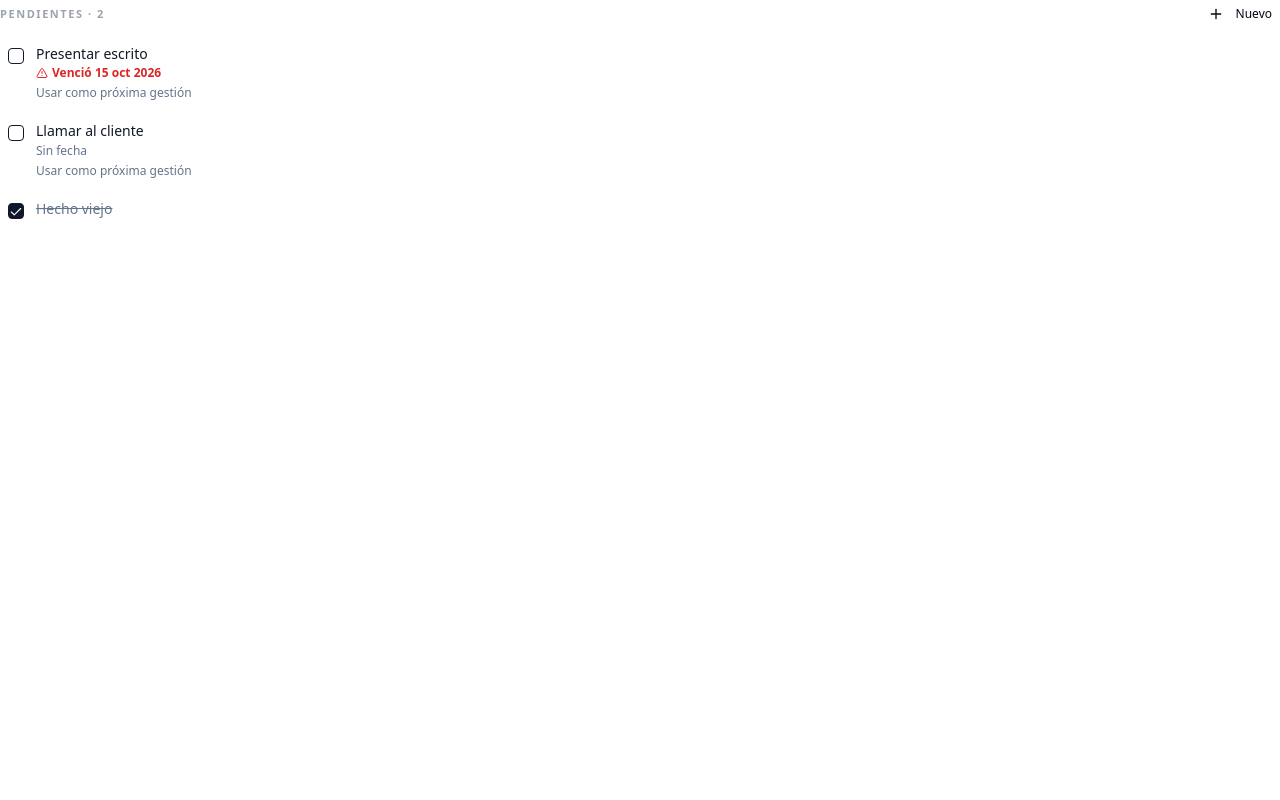
Test case: CTA por tarea › prefill título + fecha desde la tarea
Click the button "Usar como próxima gestión" below "Venció 15 oct 2026": (114, 93) left=36, top=85, right=192, bottom=101
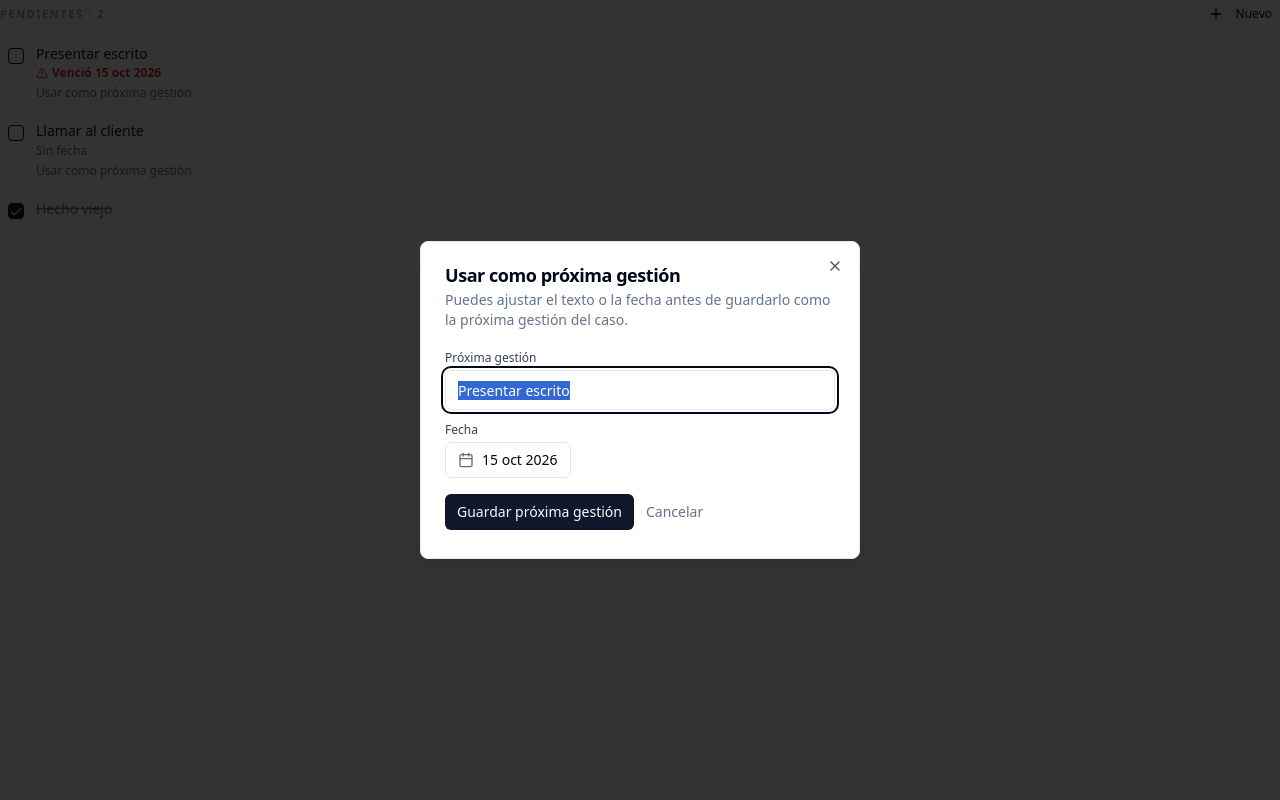
Expected: the field named "texto de la próxima gestión" holds "Presentar escrito", left=445, top=370, right=835, bottom=410
Expected: the button with aria-label "fecha de la próxima gestión" is shown, left=445, top=442, right=571, bottom=478
